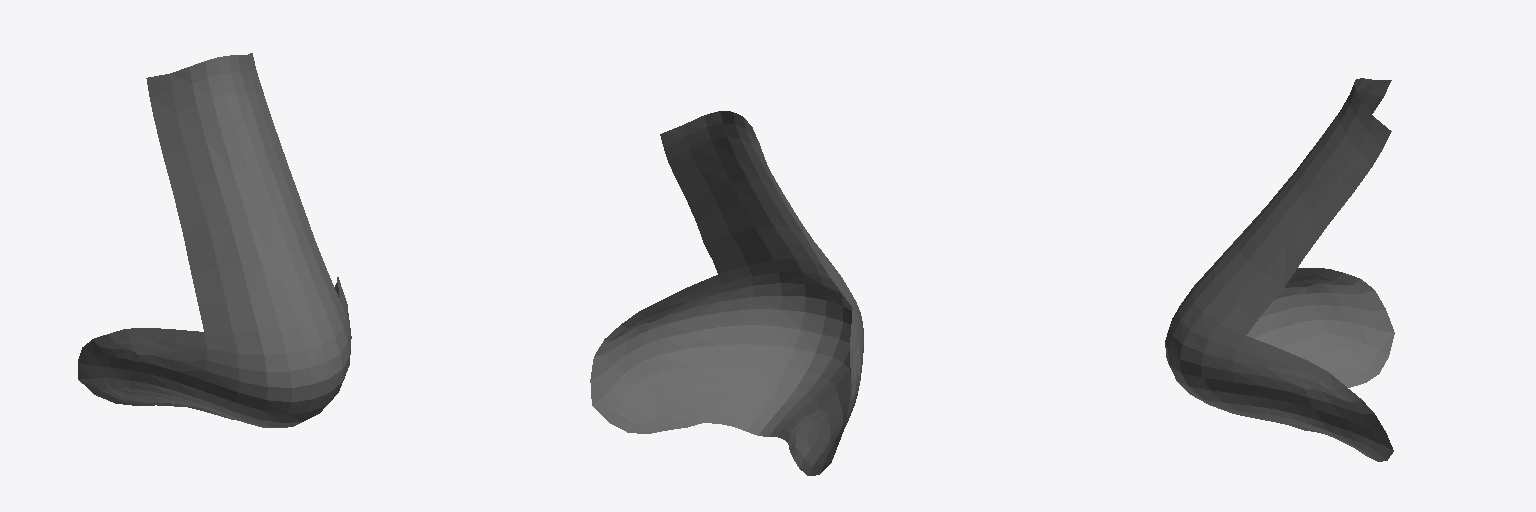
File: euro-fem-nose-sellion-down.obj
3 renders of one model, left to right at view 1: azimuth 30°, elevation 25°; view 2: azimuth 150°, elevation 25°; view 3: azimuth 270°, elevation 25°, orthographic.
Visible parts, largest first — view 1: euro-fem-nose-sel.005; view 2: euro-fem-nose-sel.005; view 3: euro-fem-nose-sel.005.
Boxes of the visible parts, x1=… form: euro-fem-nose-sel.005: x1=78, y1=53, x2=351, y2=427; euro-fem-nose-sel.005: x1=590, y1=111, x2=863, y2=475; euro-fem-nose-sel.005: x1=1165, y1=78, x2=1394, y2=461.
Bounding box in the file's own units: 0.1954 × 0.2537 × 0.1538.